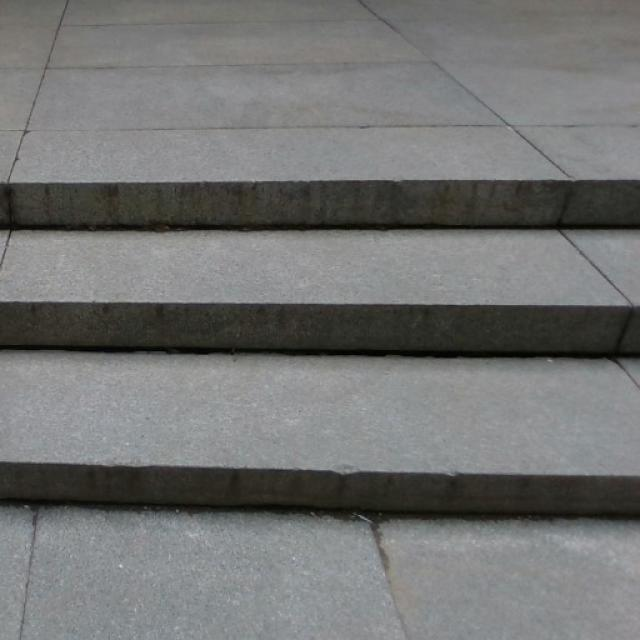Stairs: (0, 177, 639, 515)
